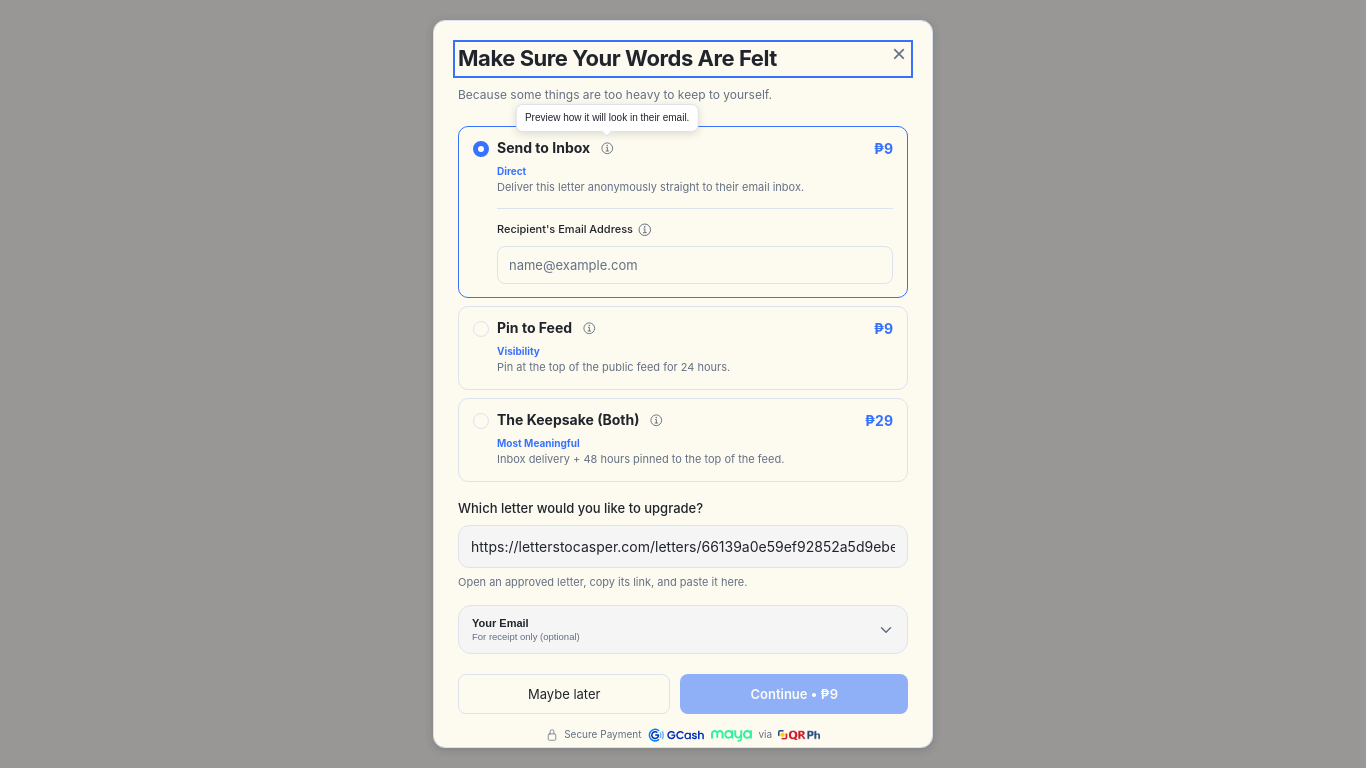
Test: previews the anonymous email the recipient will receive
The width and height of the screenshot is (1366, 768).
Click the button named "Preview the recipient email": click(645, 230) [635,220,655,240]
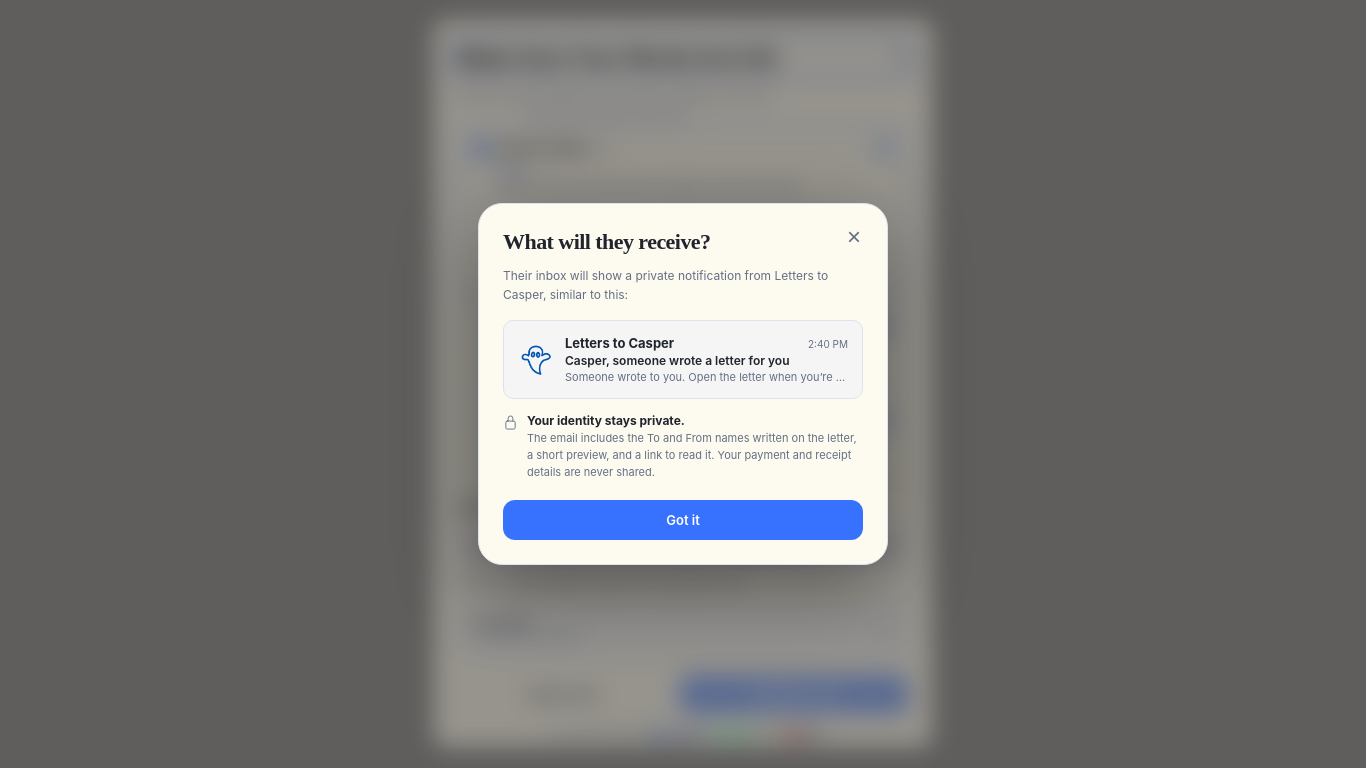
Expected: the dialog "What will they receive?" shows "Letters to Casper", [565,335,674,351]
Expected: the dialog "What will they receive?" shows "Casper, someone wrote a letter for you", [478,204,888,564]
Expected: the dialog "What will they receive?" shows "Your identity stays private.", [527,413,685,428]
Click the button named "Close delivery guide": click(854, 238) [839,222,869,252]
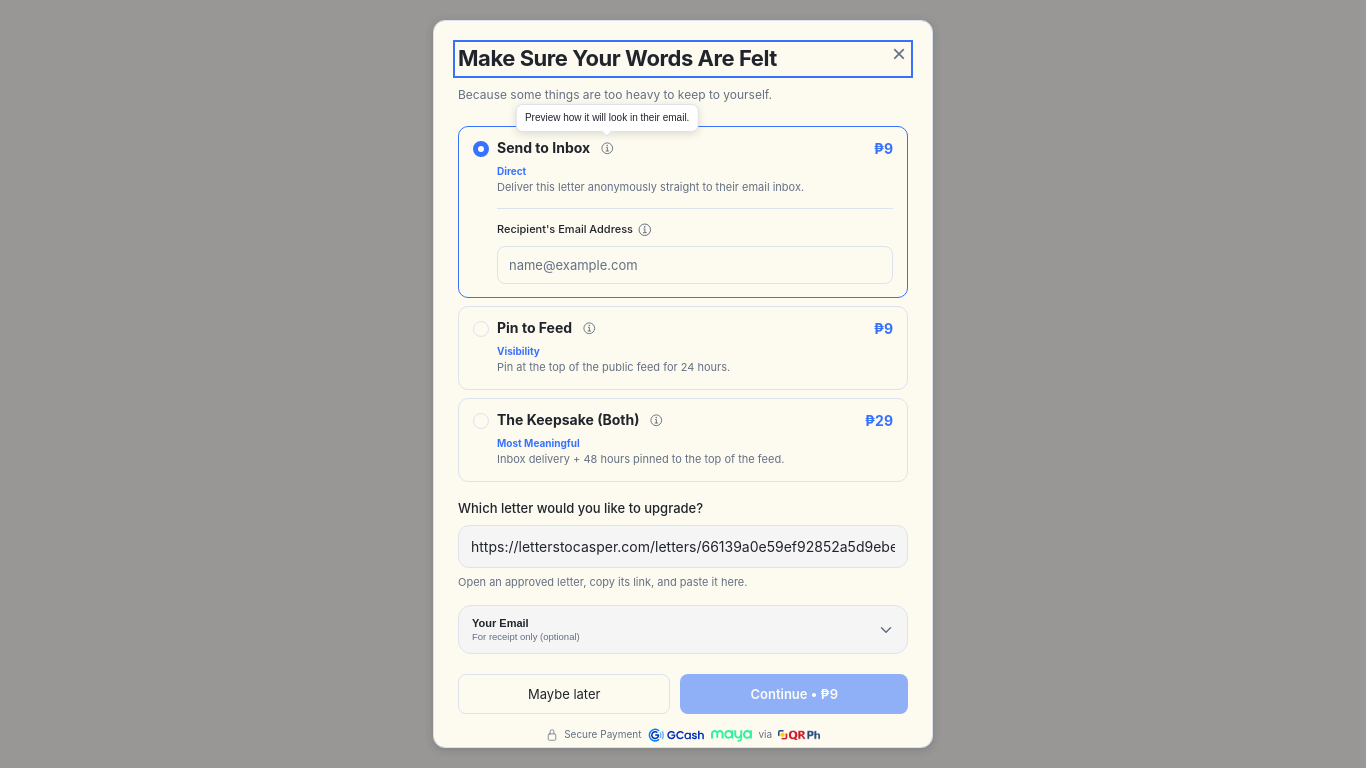
Expected: the heading "What will they receive?" is gone
